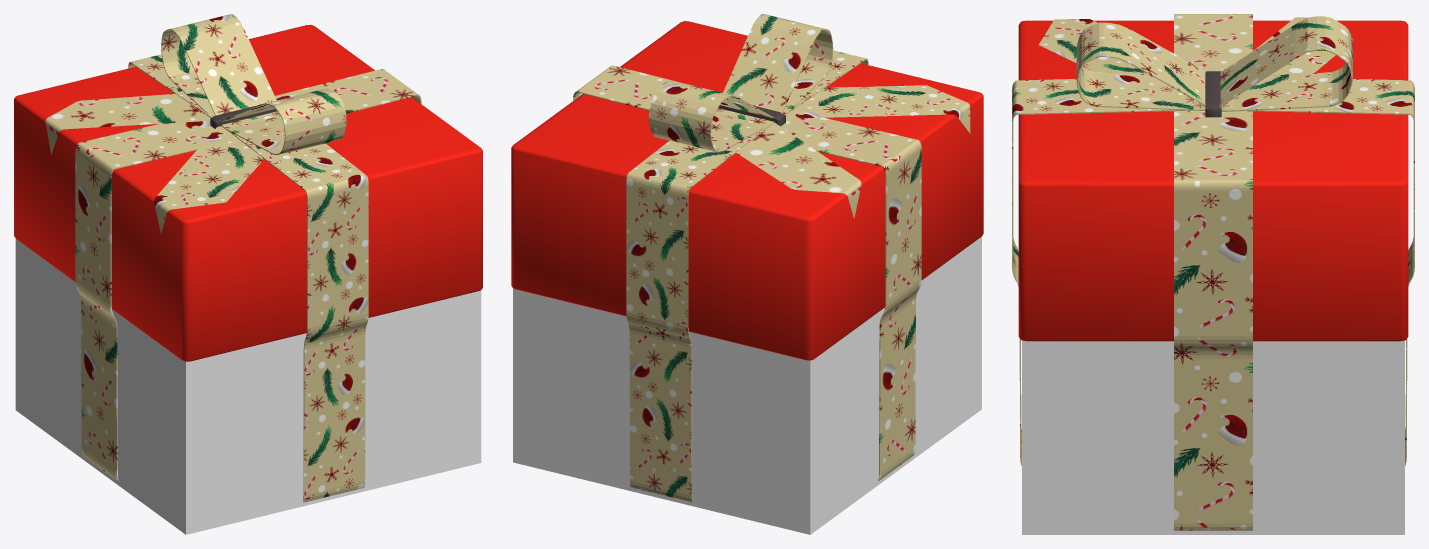
Rendered from Presente3.fbx.
3 renders of one model, left to right at view 1: azimuth 30°, elevation 25°; view 2: azimuth 150°, elevation 25°; view 3: azimuth 270°, elevation 25°, orthographic. The views are drawn at different scales.
Visible parts, largest first — view 1: Cube.001, Cube__1_, Plane.001, Plane, Plane.002, Plane.004, Plane.003, Plane.005; view 2: Cube.001, Cube__1_, Plane.001, Plane, Plane.003, Plane.002, Plane.004, Plane.005; view 3: Cube.001, Cube__1_, Plane, Plane.002, Plane.003, Plane.001, Plane.004, Plane.005, Cube.002.
Part boxes in pixels (bbox=[...]): Cube.001: bbox=[14, 24, 482, 361]; Cube__1_: bbox=[15, 239, 481, 534]; Plane.001: bbox=[128, 54, 368, 502]; Plane: bbox=[75, 69, 421, 481]; Plane.002: bbox=[161, 14, 276, 115]; Plane.004: bbox=[154, 126, 263, 234]; Plane.003: bbox=[221, 88, 346, 154]; Plane.005: bbox=[45, 93, 210, 154]; Cube.001: bbox=[511, 21, 983, 360]; Cube__1_: bbox=[513, 236, 981, 534]; Plane.001: bbox=[626, 50, 868, 502]; Plane: bbox=[573, 65, 921, 480]; Plane.003: bbox=[723, 14, 833, 114]; Plane.002: bbox=[649, 80, 773, 152]; Plane.004: bbox=[786, 85, 970, 133]; Plane.005: bbox=[736, 123, 861, 218]; Cube.001: bbox=[1018, 20, 1408, 341]; Cube__1_: bbox=[1022, 340, 1404, 534]; Plane: bbox=[1174, 14, 1252, 530]; Plane.002: bbox=[1219, 16, 1352, 111]; Plane.003: bbox=[1076, 22, 1205, 110]; Plane.001: bbox=[1012, 79, 1414, 465]; Plane.004: bbox=[1038, 19, 1148, 74]; Plane.005: bbox=[1254, 17, 1353, 75]; Cube.002: bbox=[1205, 71, 1221, 117].
Bounding box in the file's own units: 105 × 122 × 105.
4 materials, 1 textured.
